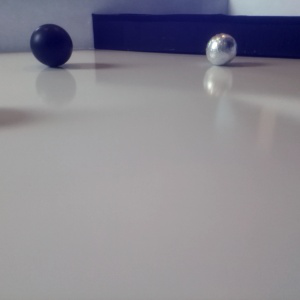zone: (92, 13, 300, 58)
